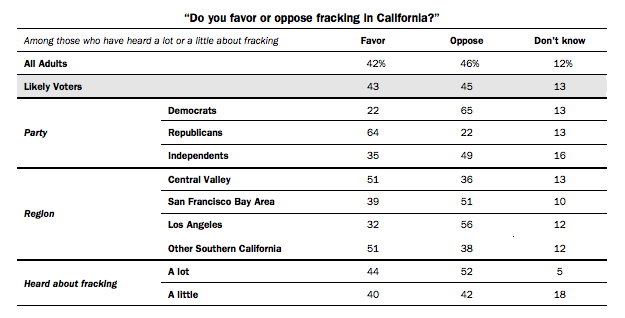fracking table: (15, 25, 611, 307)
